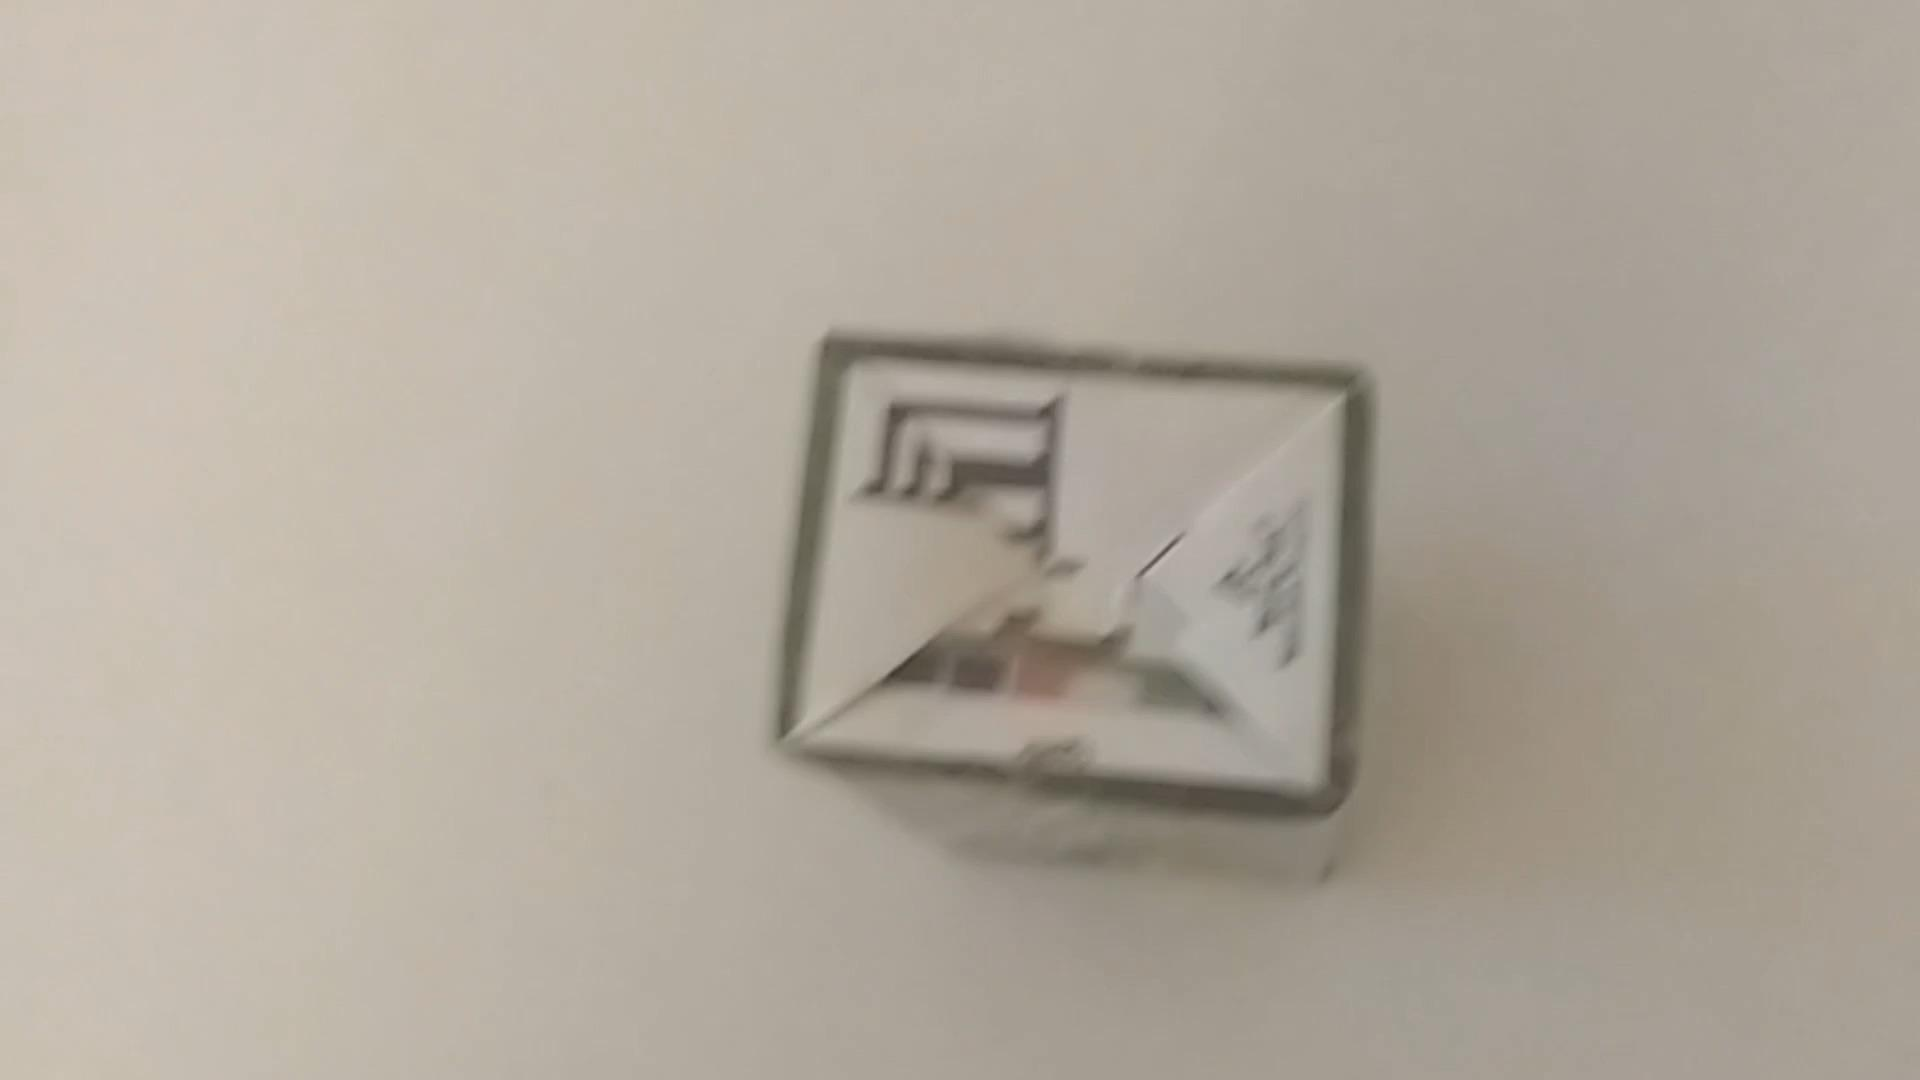coco: (737, 313, 1443, 848)
